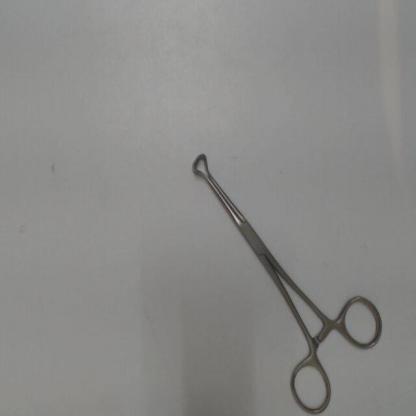Babcock Tissue Forceps: (187, 147, 388, 415)
